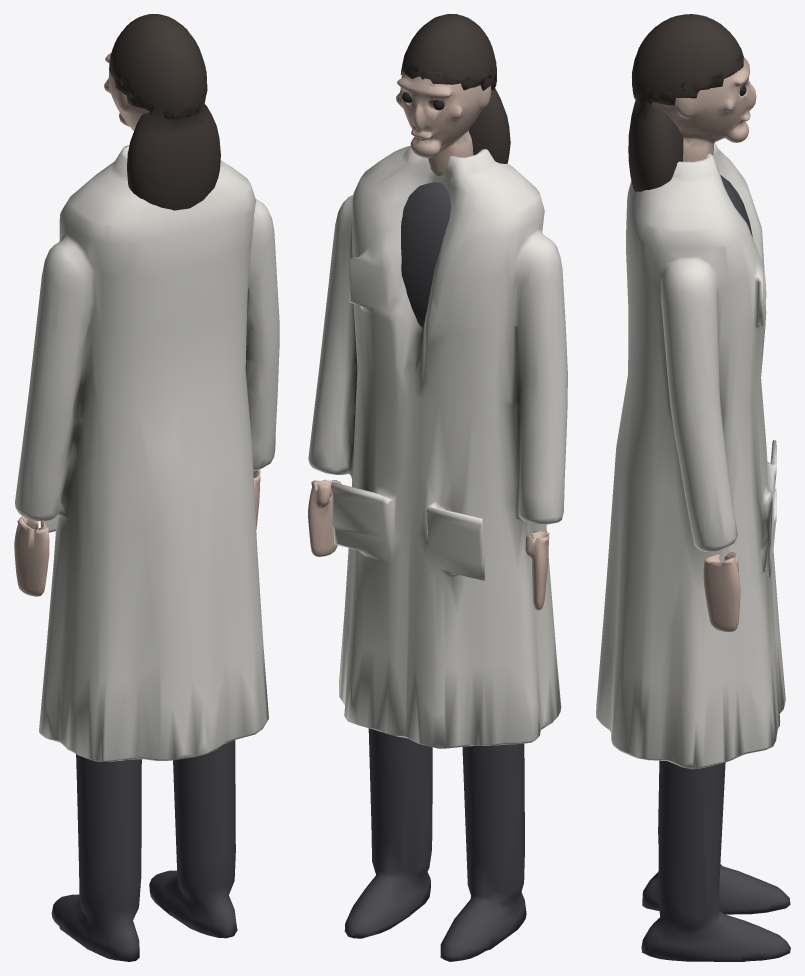
Rendered from figure.glb.
3 views of the same model, side by side, from view 1: azimuth 30°, elevation 25°; view 2: azimuth 150°, elevation 25°; view 3: azimuth 270°, elevation 25° (orthographic). The views are drawn at different scales.
Visible parts, largest first — view 1: coat, legs, hairLong, hair, skin; view 2: coat, legs, skin, hairLong, hair; view 3: coat, legs, skin, hairLong, hair.
Boxes of the visible parts, box(x1,y1,x2,y2) form: coat: box(15, 145, 279, 761); legs: box(51, 740, 237, 961); hairLong: box(109, 14, 220, 210); hair: box(110, 14, 207, 119); skin: box(14, 53, 260, 596); coat: box(308, 145, 567, 748); legs: box(344, 182, 526, 961); skin: box(308, 71, 549, 610); hairLong: box(400, 14, 510, 163); hair: box(402, 14, 496, 87); coat: box(596, 143, 785, 769); legs: box(641, 175, 790, 961); skin: box(654, 57, 756, 632); hairLong: box(628, 14, 744, 191); hair: box(632, 14, 742, 101).
Bounding box in the file's own units: 0.4987 × 1.71 × 0.3316.
